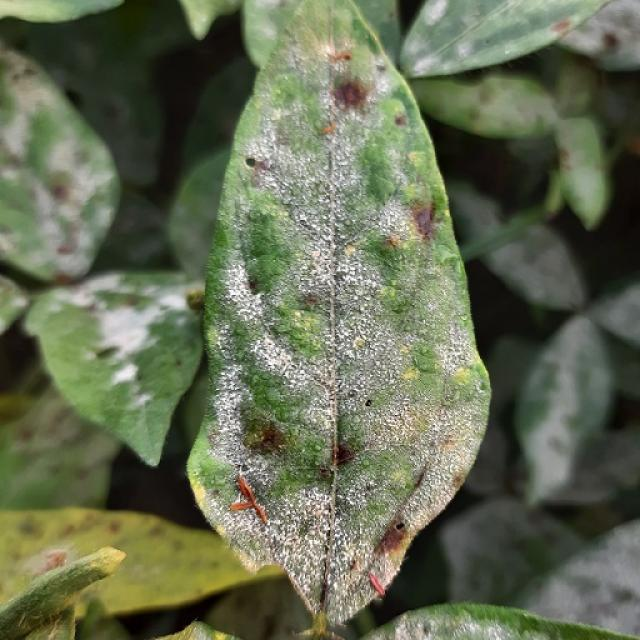Blackgram: (188, 0, 489, 619)
Powdery_Mildew: (229, 131, 445, 465), (8, 109, 111, 274), (276, 140, 354, 347), (340, 319, 440, 468), (228, 332, 329, 460), (354, 238, 443, 351), (292, 150, 350, 302), (318, 75, 343, 424), (418, 1, 538, 67), (329, 260, 393, 380), (6, 396, 96, 479), (306, 129, 366, 240), (91, 303, 163, 386), (240, 202, 302, 289), (281, 524, 335, 615), (211, 348, 262, 443), (41, 303, 107, 364), (222, 255, 269, 332), (371, 390, 431, 450), (270, 412, 329, 468), (324, 313, 342, 484), (27, 109, 73, 174), (358, 135, 402, 202), (248, 375, 301, 425), (271, 308, 325, 356), (379, 277, 424, 321), (341, 216, 393, 254), (305, 364, 342, 402), (410, 344, 441, 375), (427, 615, 470, 637), (415, 618, 441, 638)
